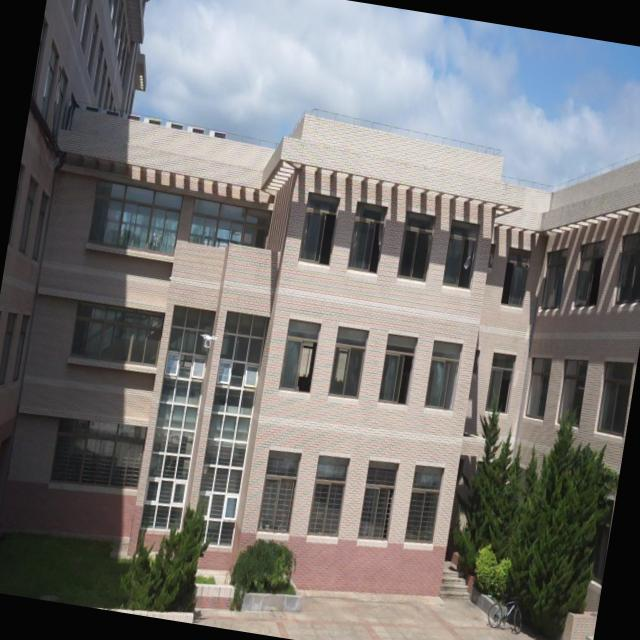drone: (194, 328, 222, 354)
